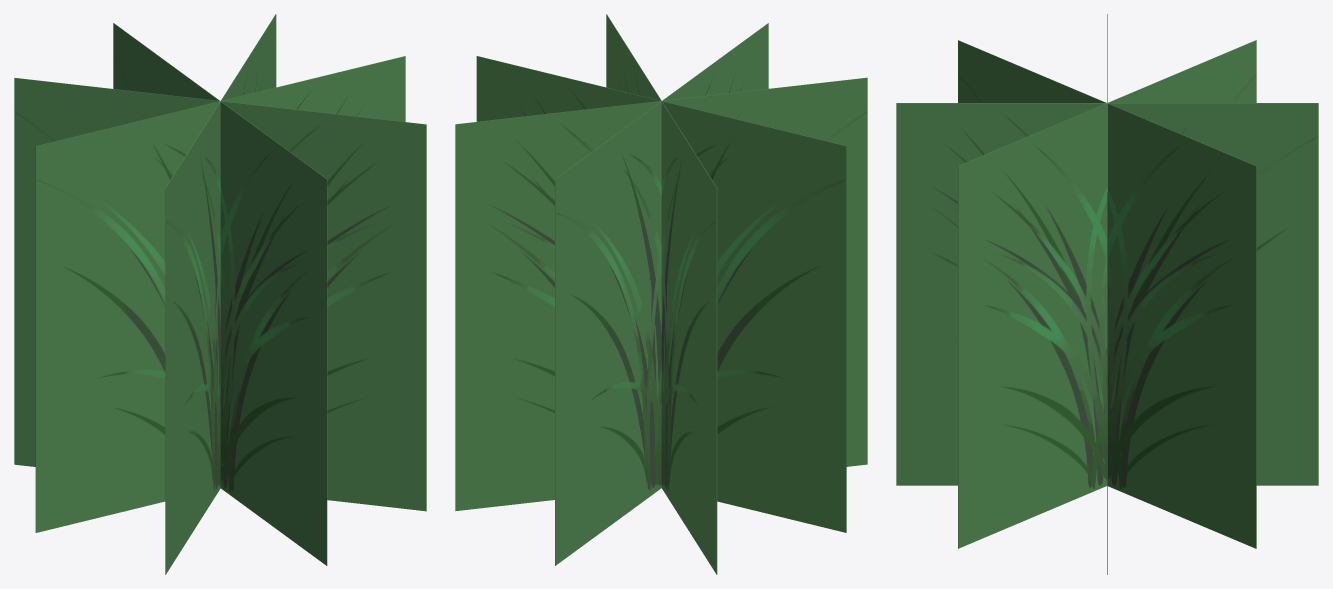
Rendered from SwampGrass.fbx.
The picture shows the model from 3 angles, left to right: view 1: azimuth 30°, elevation 25°; view 2: azimuth 150°, elevation 25°; view 3: azimuth 270°, elevation 25°; orthographic projection.
Parts seen in each view (by area): view 1: polySurface7; view 2: polySurface7; view 3: polySurface7.
Boxes of the visible parts, <box> form: polySurface7: <box>14,14,426,574</box>; polySurface7: <box>455,14,867,574</box>; polySurface7: <box>896,14,1318,574</box>.
Size of the model in its own units: 9.21 by 9.21 by 9.21.
